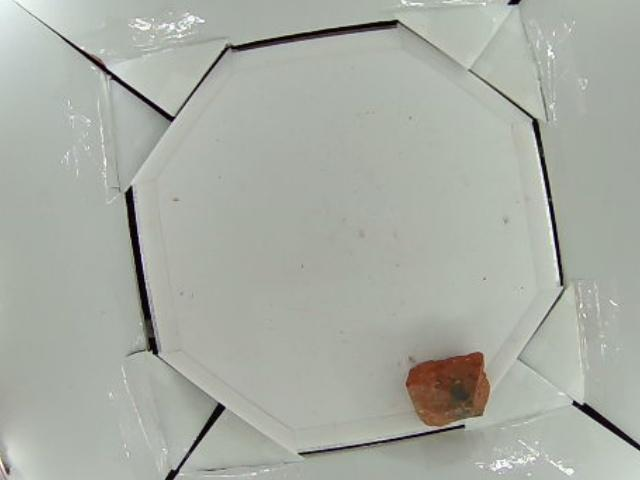Brisk: (406, 349, 489, 430)
